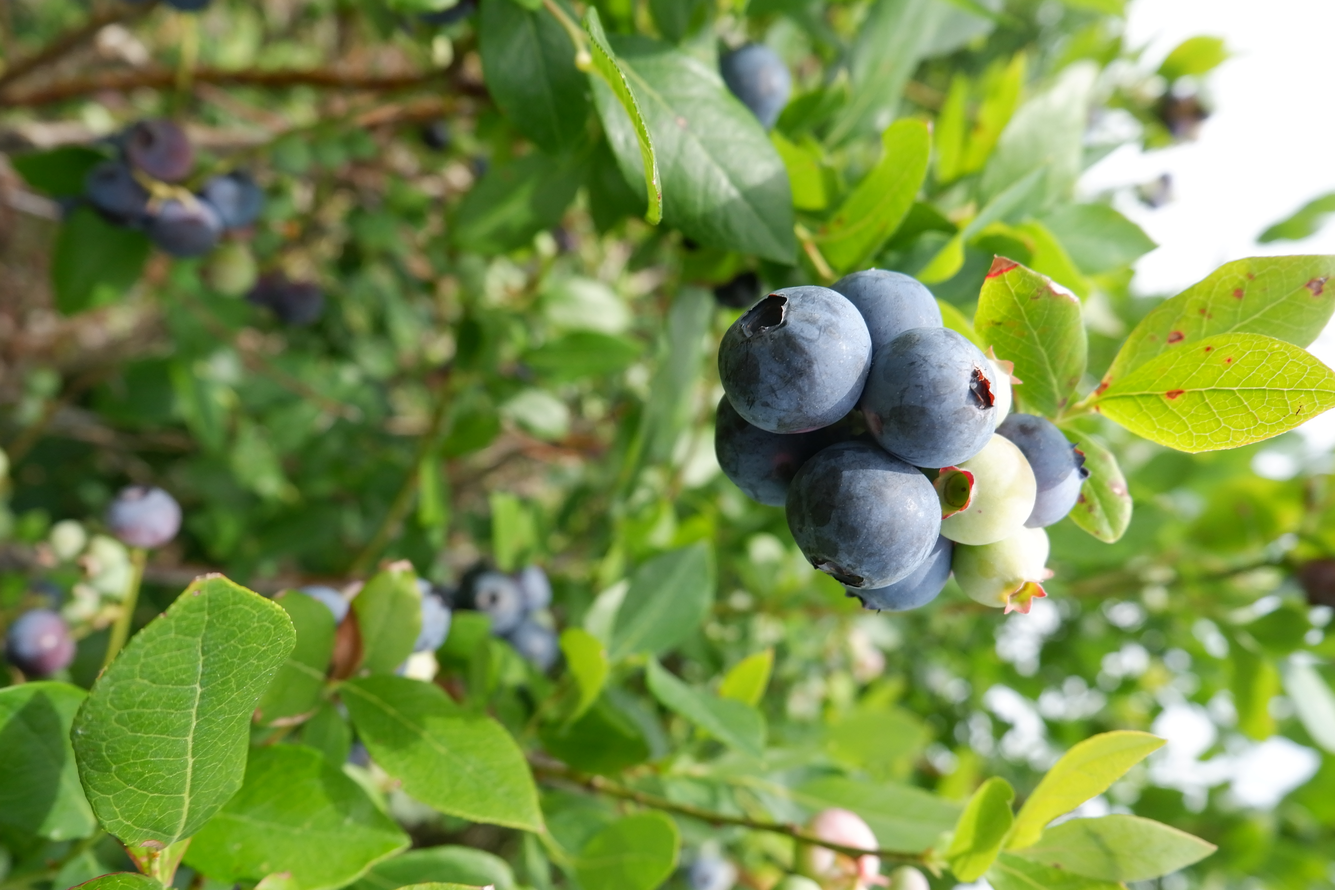Immature: (938, 439, 1033, 543), (955, 527, 1050, 612), (982, 344, 1022, 429)
Mature: (788, 440, 938, 587), (723, 288, 868, 429), (867, 332, 998, 464), (716, 401, 859, 504), (998, 415, 1084, 525), (835, 272, 940, 353), (855, 537, 952, 610)
